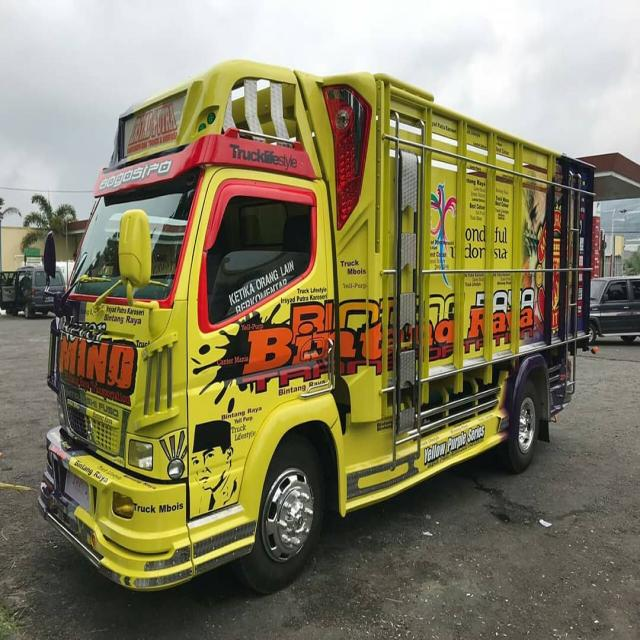truck: (38, 57, 594, 593)
